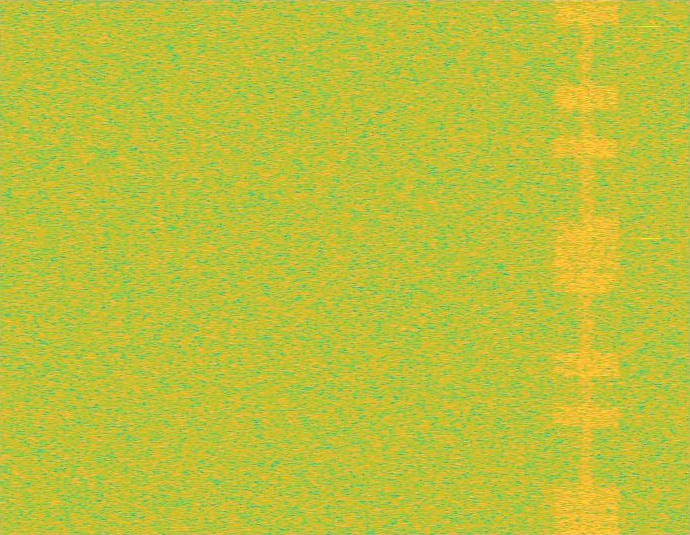DSSS: (579, 0, 594, 534)
LTE: (552, 0, 621, 534)
Radar: (642, 0, 656, 534)
